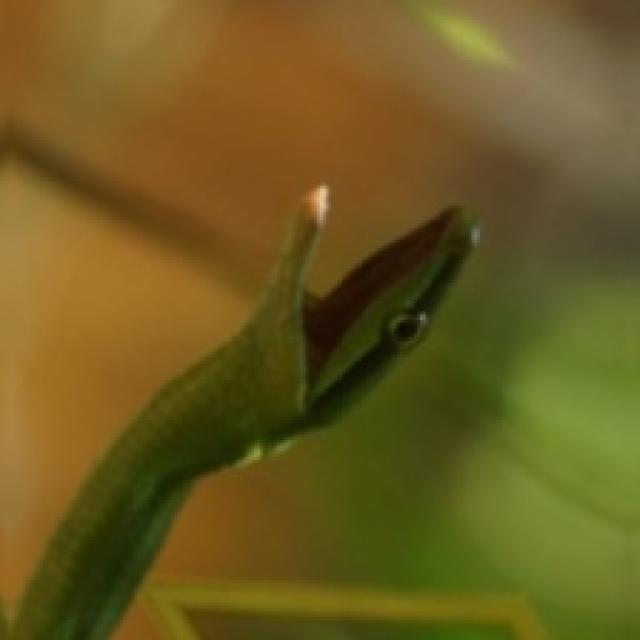red-tailed green ratsnake: (0, 186, 477, 637)
